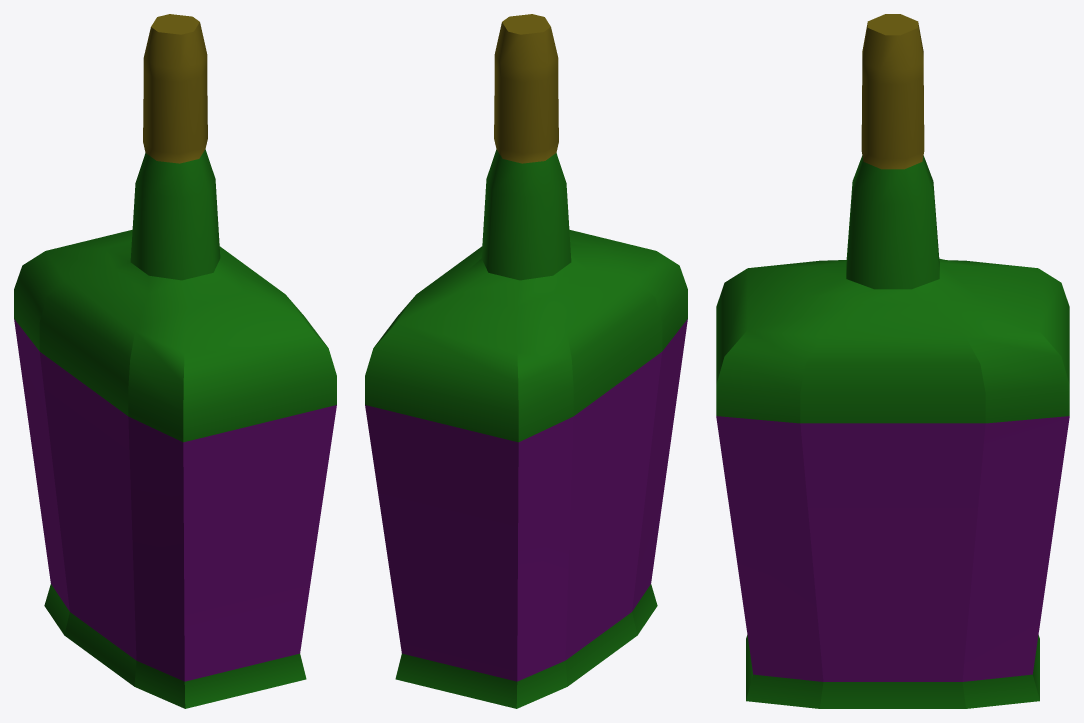
3 renders of one model, left to right at view 1: azimuth 30°, elevation 25°; view 2: azimuth 150°, elevation 25°; view 3: azimuth 270°, elevation 25°, orthographic. The views are drawn at different scales.
Visible parts, largest first — view 1: B9; view 2: B9; view 3: B9.
Part boxes in pixels (x1,y1,x2,y2): B9: (14,14,336,708); B9: (365,14,687,708); B9: (716,14,1069,708).
Size of the model in its own units: 57.37 by 185 by 92.01.
